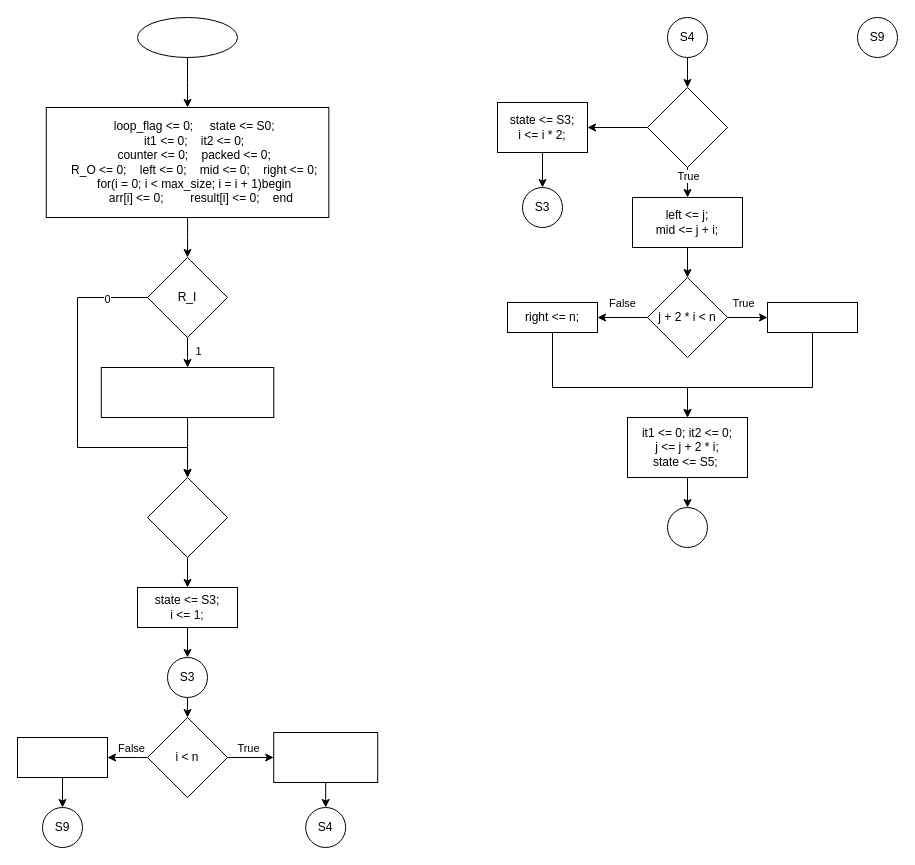
Image size: 915x865. Some labels were removed from this diagram. The shapes that lost their labels are listed below. From the top down, each one's centre as x and y in pixels, then its label:
At point (187, 37): "Начало".
At point (687, 127): "j < n - i".
At point (812, 317): "right <= j + 2 * i;".
At point (187, 392): "arr[counter] <= dataIn; counter <= counter + 1;".
At point (187, 517): "counter == n".
At point (687, 527): "S5".
At point (62, 757): "state <= S9".
At point (325, 757): "i <= 0 state <= S4".
